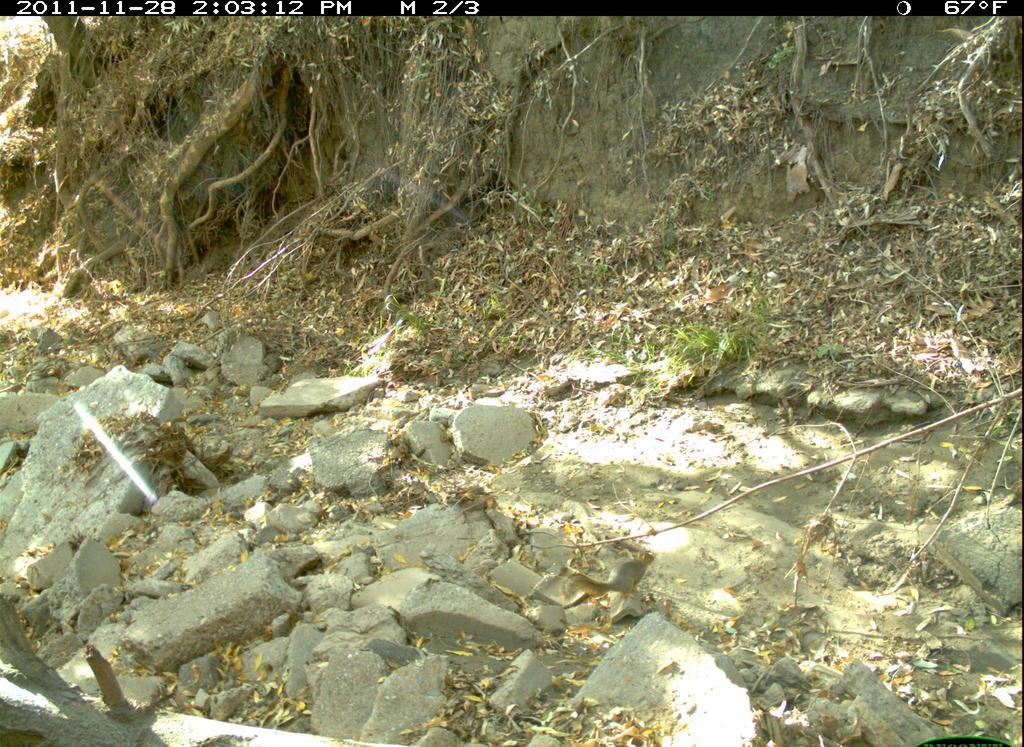squirrel: (536, 528, 674, 630)
